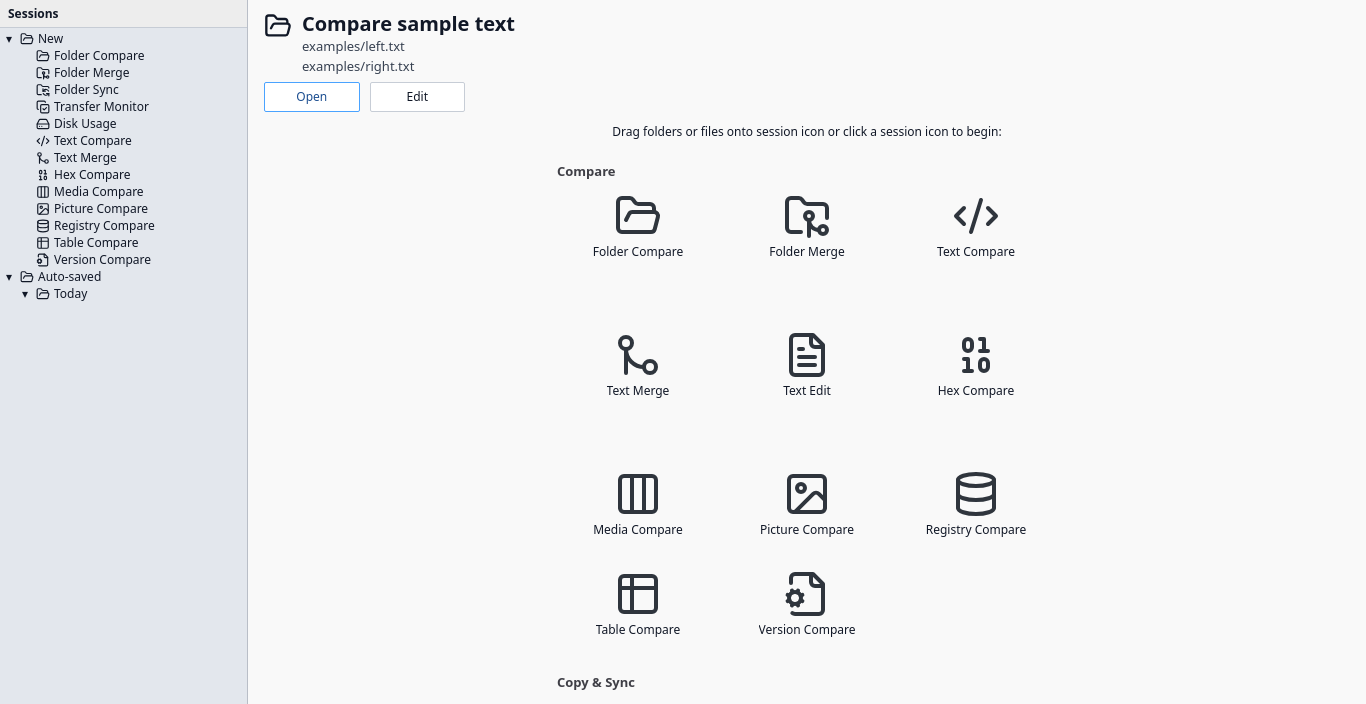
Scenario: HomeView › enables Edit for a selected saved session and renames it
Click the button with test id "home-edit-selected".
click(417, 97)  # box 370,82 -> 465,112
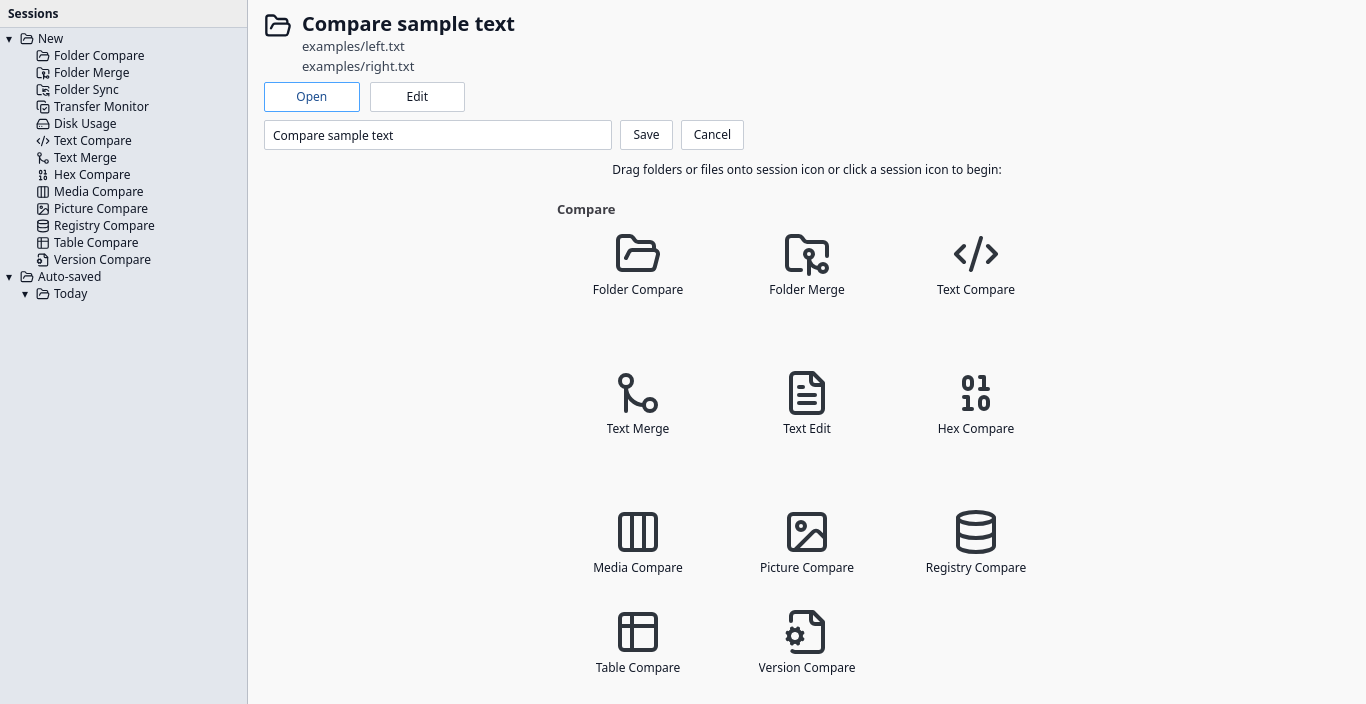
Result: the element with test id "home-edit-panel" is shown at 264,120 -> 744,150
Replace the text in the field with test id "home-edit-name-input" with "Renamed from Edit" at [438, 135], box 264,120 -> 612,150
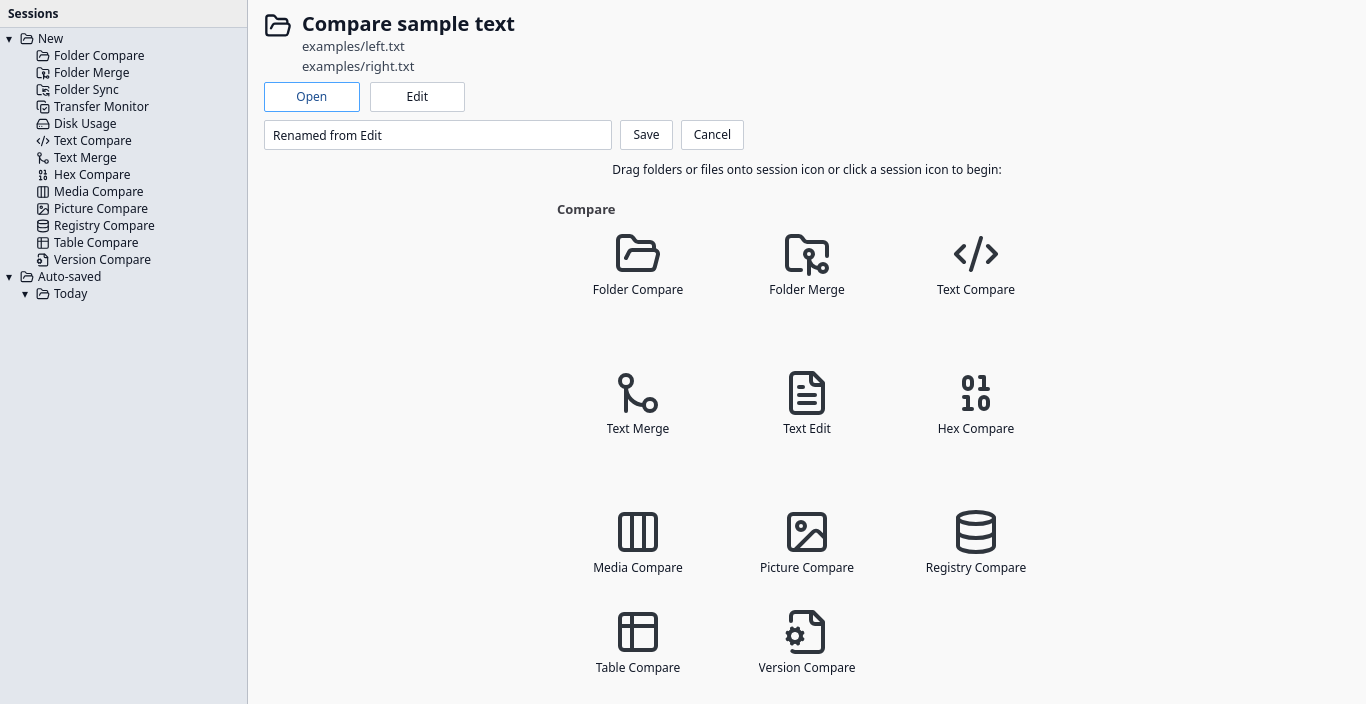
Click the button with test id "home-edit-confirm".
click(647, 135)  # box 620,120 -> 673,150
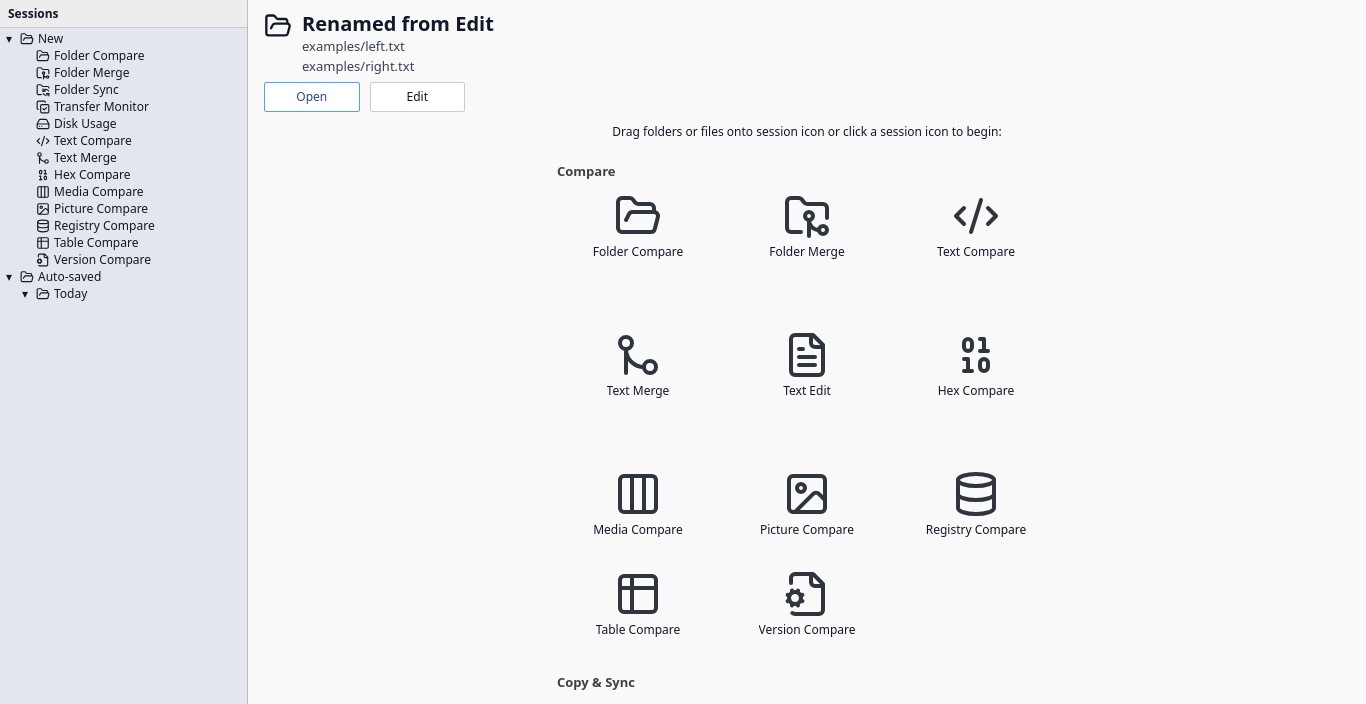
Result: the text "Renamed from Edit" is shown at 302,12 -> 494,35
